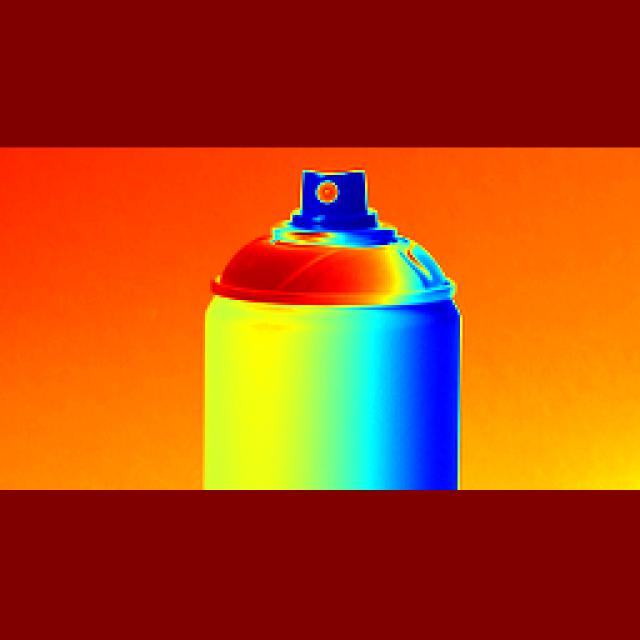Aerosol Cans: (196, 145, 466, 499)
